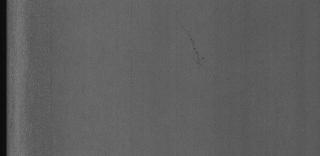water spot: (182, 30, 205, 68)
